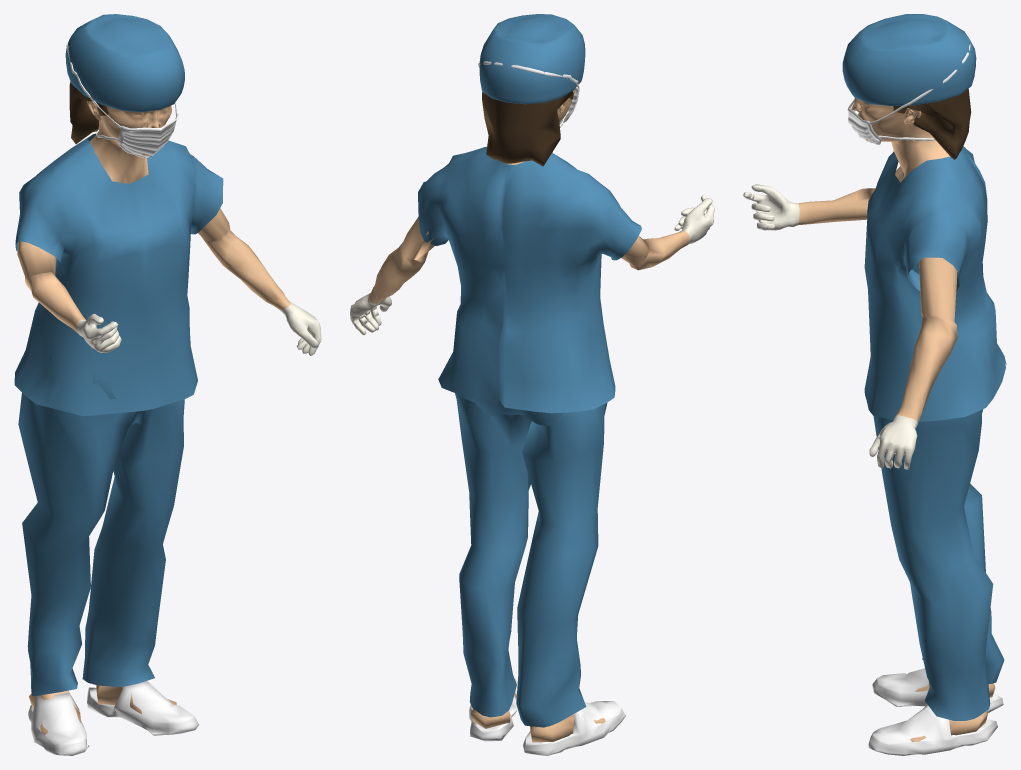
File: Nurse.fbx
3 views of the same model, side by side, from view 1: azimuth 30°, elevation 25°; view 2: azimuth 150°, elevation 25°; view 3: azimuth 270°, elevation 25° (orthographic). The views are drawn at different scales.
Visible parts, largest first — view 1: Nurse 11 Operation; view 2: Nurse 11 Operation; view 3: Nurse 11 Operation.
Part boxes in pixels (x1,y1,x2,y2): Nurse 11 Operation: [14, 14, 321, 755]; Nurse 11 Operation: [350, 14, 714, 755]; Nurse 11 Operation: [743, 14, 1006, 755].
Size of the model in its own units: 75.36 by 169 by 57.34.
